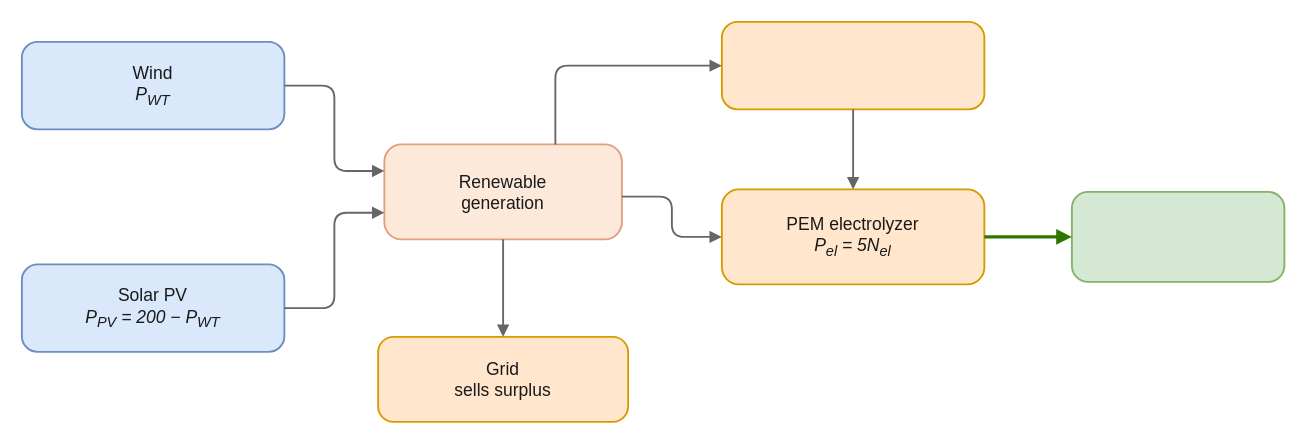
The diagram is 1308 pixels wide and 445 high, and some of its shapes have lost their labels. Each missing label, with the box of its shape:
BESS stores surplus: (720, 20, 985, 110)
Green H 2 final product: (1070, 190, 1285, 282)
